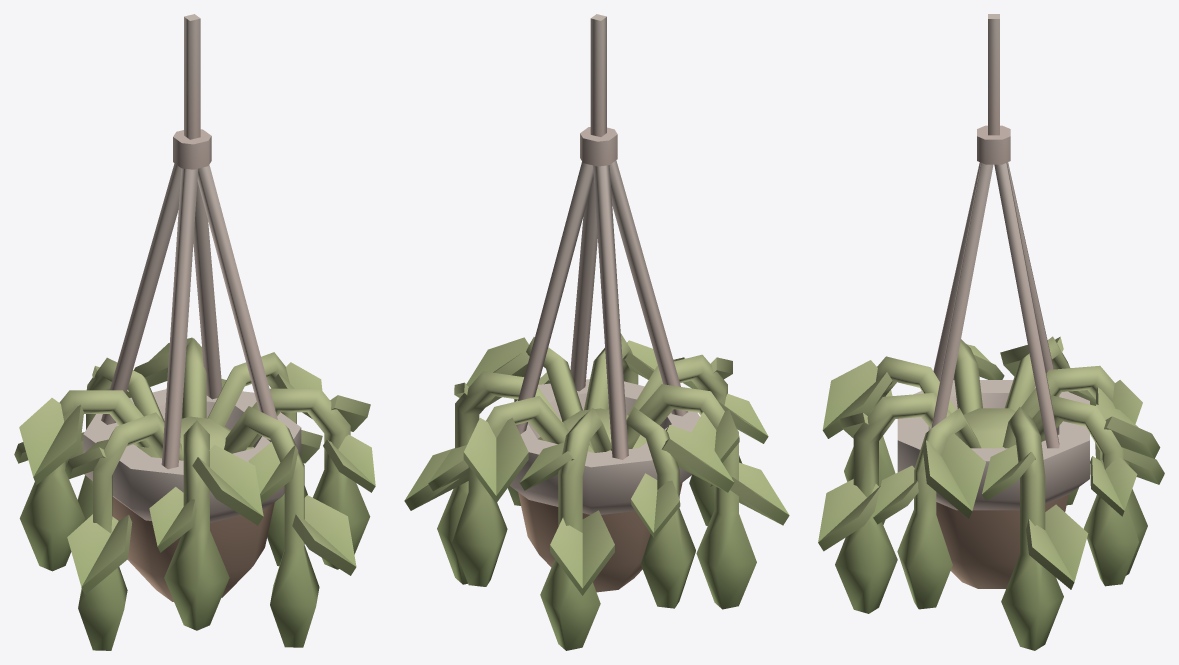
The model's file is plant-hanging-a (%ceiling).glb.
The picture shows the model from 3 angles, left to right: view 1: azimuth 30°, elevation 25°; view 2: azimuth 150°, elevation 25°; view 3: azimuth 270°, elevation 25°; orthographic projection. The views are drawn at different scales.
Visible parts, largest first — view 1: plant-hanging-a (%ceiling); view 2: plant-hanging-a (%ceiling); view 3: plant-hanging-a (%ceiling).
Part boxes in pixels (x1,y1,x2,y2): plant-hanging-a (%ceiling): (14, 14, 375, 650); plant-hanging-a (%ceiling): (404, 14, 789, 650); plant-hanging-a (%ceiling): (818, 14, 1164, 650).
Size of the model in its own units: 0.4102 by 0.742 by 0.4062.
